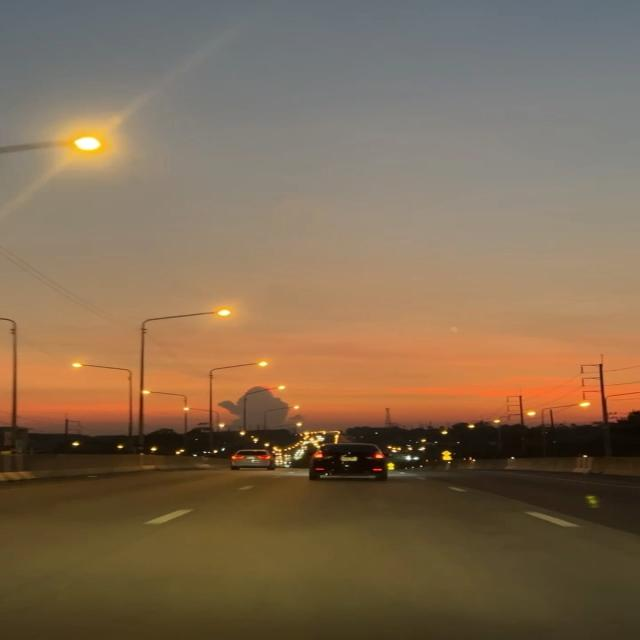Poth-hole: (44, 489, 460, 632)
